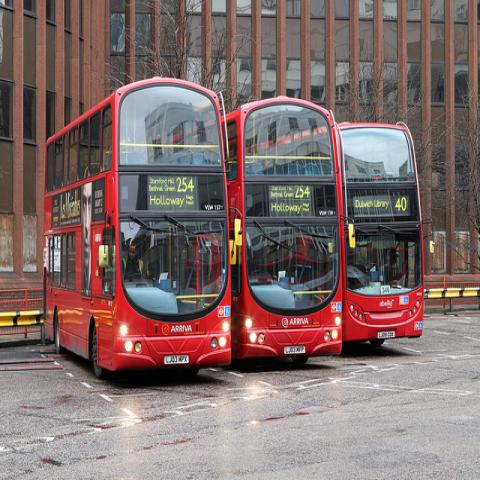bus: (43, 77, 243, 381), (228, 100, 343, 364), (338, 124, 422, 340)
